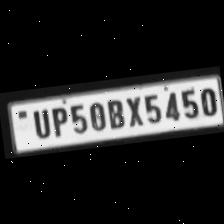0: (196, 84, 220, 117), (84, 97, 106, 132)
4: (158, 88, 181, 122)
5: (64, 101, 88, 136), (176, 84, 199, 120), (138, 90, 162, 124)
B: (102, 95, 125, 130)
P: (46, 104, 68, 138)
U: (26, 106, 52, 140)
X: (122, 93, 144, 128)
